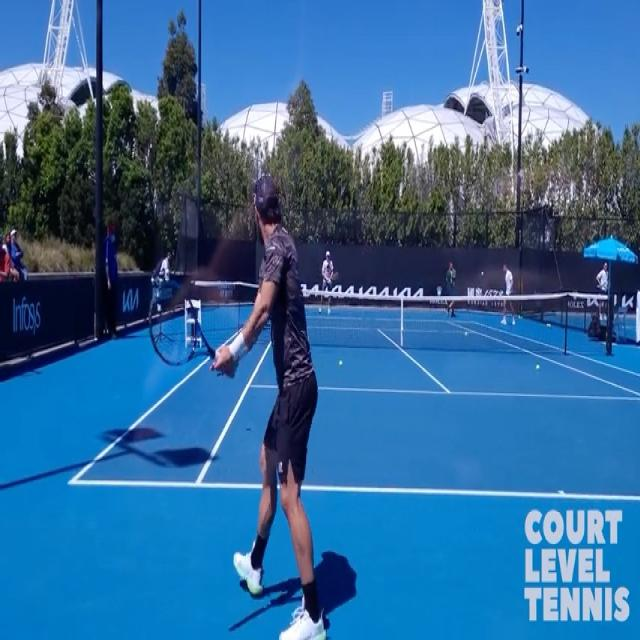backhand-ready: (148, 177, 325, 638)
